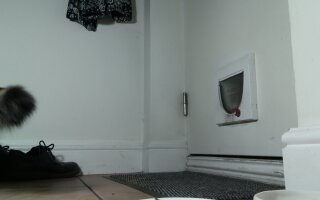clara: (1, 83, 36, 131)
